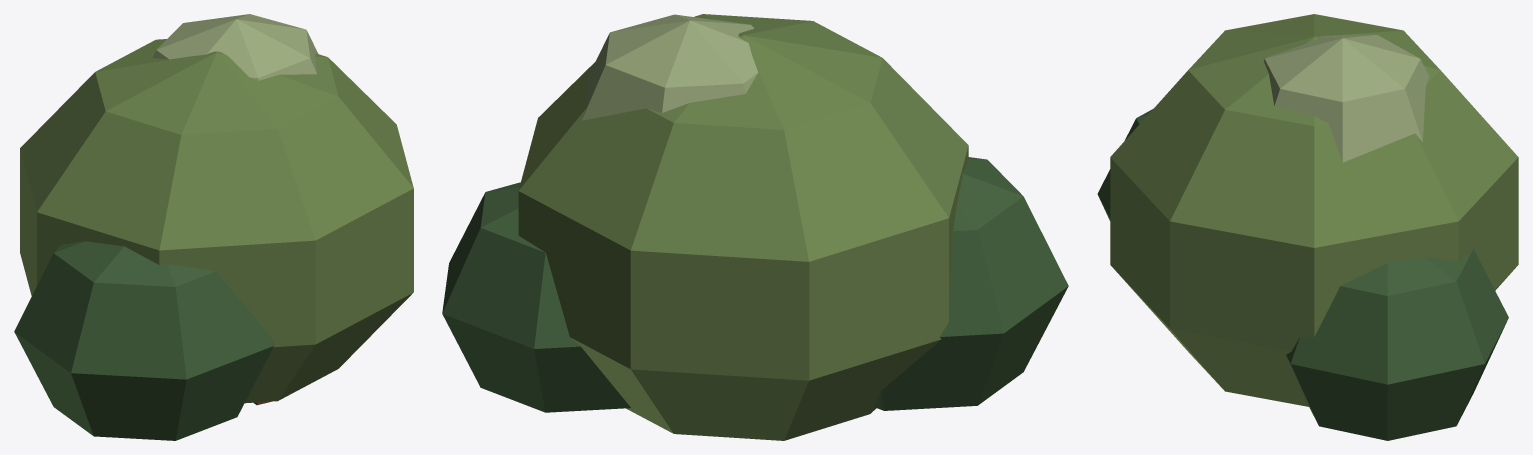
File: berry_bush_picked.glb
3 views of the same model, side by side, from view 1: azimuth 30°, elevation 25°; view 2: azimuth 150°, elevation 25°; view 3: azimuth 270°, elevation 25° (orthographic). The views are drawn at different scales.
Visible parts, largest first — view 1: BerryBushPicked; view 2: BerryBushPicked; view 3: BerryBushPicked.
Part boxes in pixels (x1=…): BerryBushPicked: x1=14, y1=14, x2=413, y2=440; BerryBushPicked: x1=442, y1=14, x2=1068, y2=440; BerryBushPicked: x1=1097, y1=14, x2=1518, y2=440.
Bounding box in the file's own units: 1.04 × 0.8 × 0.8399.
